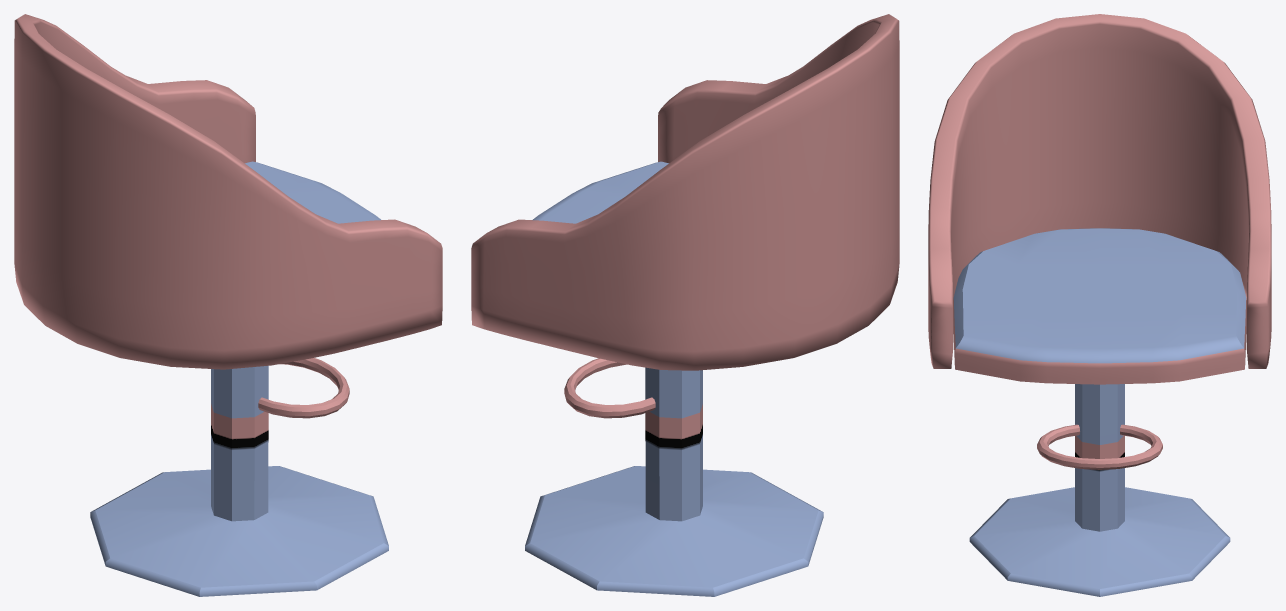
File: PokerChairs02.fbx
3 renders of one model, left to right at view 1: azimuth 30°, elevation 25°; view 2: azimuth 150°, elevation 25°; view 3: azimuth 270°, elevation 25°, orthographic. The views are drawn at different scales.
Parts seen in each view (by area): view 1: PokerChair_Chair; view 2: PokerChair_Chair; view 3: PokerChair_Chair.
Boxes of the visible parts, x1=… form: PokerChair_Chair: x1=14, y1=14, x2=442, y2=596; PokerChair_Chair: x1=471, y1=14, x2=899, y2=596; PokerChair_Chair: x1=928, y1=14, x2=1271, y2=596.
Bounding box in the file's own units: 68.24 × 103 × 71.28.
